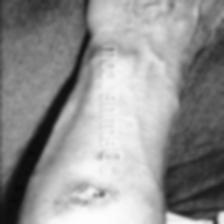Toxin: (57, 180, 116, 219)
